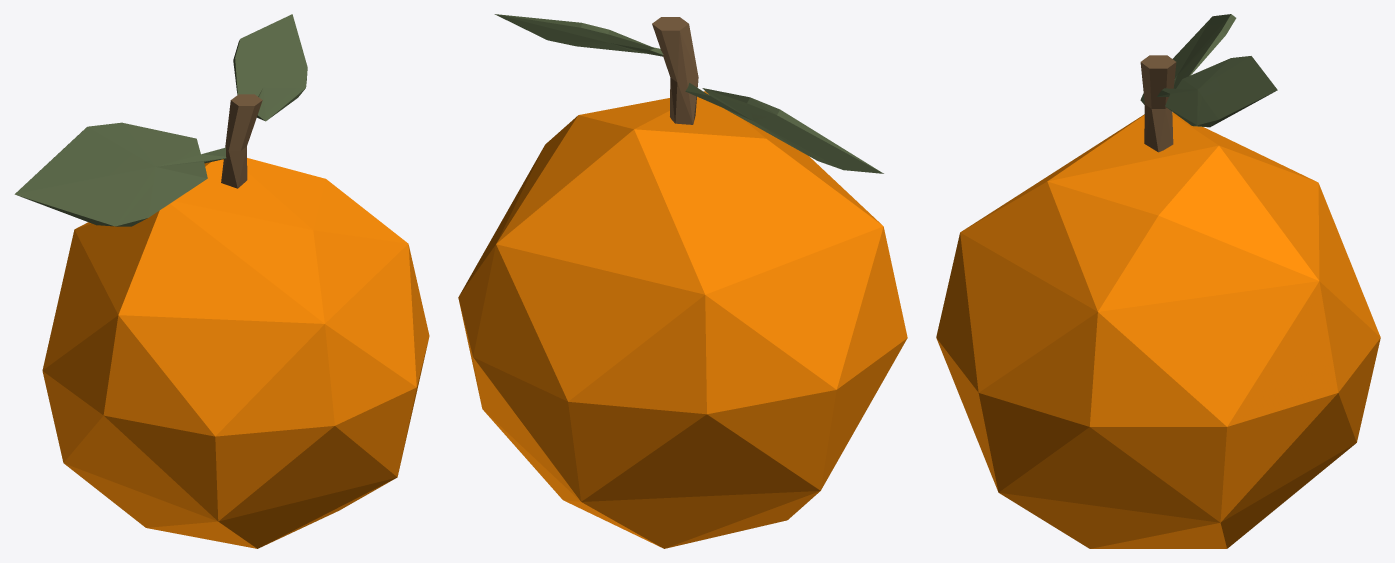
The model's file is SM_Food_Orange_01.fbx.
The picture shows the model from 3 angles, left to right: view 1: azimuth 30°, elevation 25°; view 2: azimuth 150°, elevation 25°; view 3: azimuth 270°, elevation 25°; orthographic projection. The views are drawn at different scales.
Parts seen in each view (by area): view 1: SM_Food_Orange_01; view 2: SM_Food_Orange_01; view 3: SM_Food_Orange_01.
Boxes of the visible parts, bbox=[...] form: SM_Food_Orange_01: bbox=[14, 14, 429, 548]; SM_Food_Orange_01: bbox=[458, 14, 907, 548]; SM_Food_Orange_01: bbox=[936, 14, 1380, 548].
Bounding box in the file's own units: 0.1149 × 0.1342 × 0.1092.
